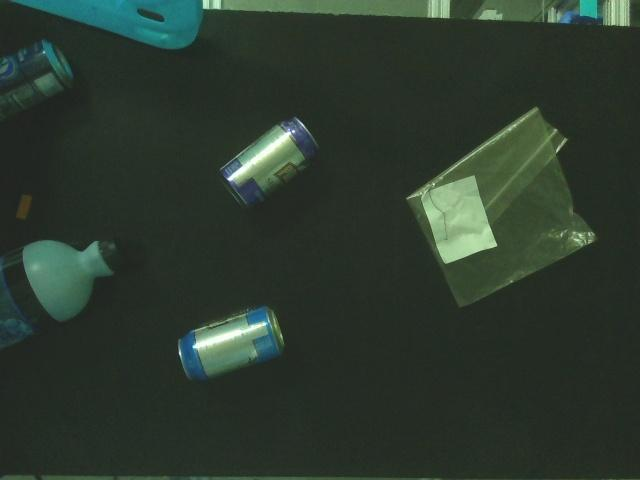metal: (217, 114, 324, 213), (178, 302, 288, 384), (0, 35, 79, 120)
plastic: (406, 105, 598, 309), (0, 225, 135, 351), (13, 191, 35, 222)
